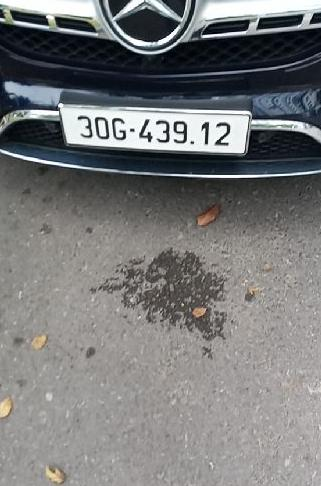Plate-iWeP: (60, 110, 254, 151)
